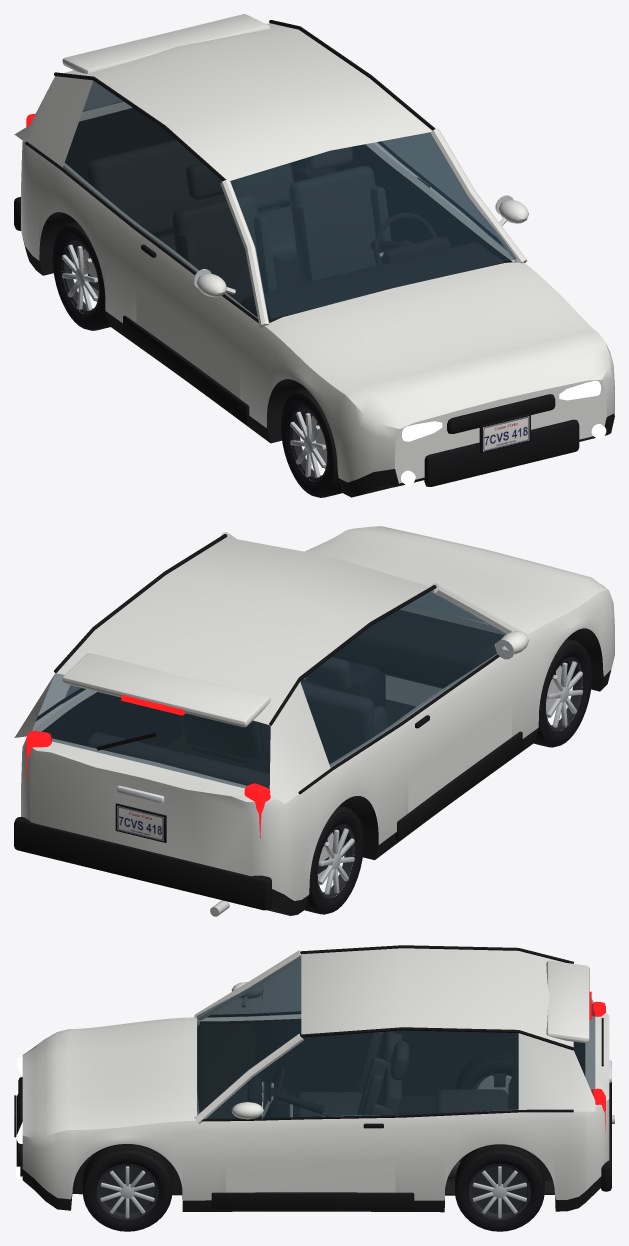
The model's file is hatchback.glb.
The picture shows the model from 3 angles, top to bottom: view 1: azimuth 30°, elevation 25°; view 2: azimuth 150°, elevation 25°; view 3: azimuth 270°, elevation 25°; orthographic projection. The views are drawn at different scales.
Parts seen in each view (by area): view 1: body, door_fr, door_fl, wheel_fr, wheel_rr, steering_wheel; view 2: body, door_fr, wheel_rr, wheel_fr, door_fl; view 3: body, door_fl, door_fr, wheel_fl, wheel_rl, wheel_rr, steering_wheel.
Boxes of the visible parts, x1,y1,x2,y2 form: body: (14, 14, 614, 497); door_fr: (135, 130, 250, 398); door_fl: (393, 132, 528, 258); wheel_fr: (281, 388, 342, 497); wheel_rr: (52, 222, 110, 330); steering_wheel: (373, 212, 436, 265); body: (14, 526, 614, 916); door_fr: (371, 589, 528, 812); wheel_rr: (304, 805, 363, 914); wheel_fr: (534, 638, 592, 747); door_fl: (149, 707, 182, 747); body: (14, 945, 614, 1212); door_fl: (226, 1030, 402, 1192); door_fr: (226, 960, 370, 1096); wheel_fl: (82, 1144, 172, 1231); wheel_rl: (455, 1144, 544, 1231); wheel_rr: (455, 1051, 518, 1094); steering_wheel: (260, 1067, 284, 1117).
Bounding box in the file's own units: 2.11 × 1.51 × 4.15.
18 materials, 5 textured.
